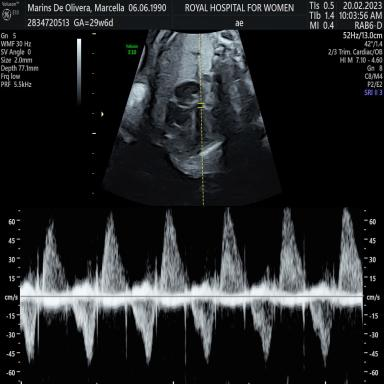Ultrasound-Waves: (25, 208, 361, 384)
